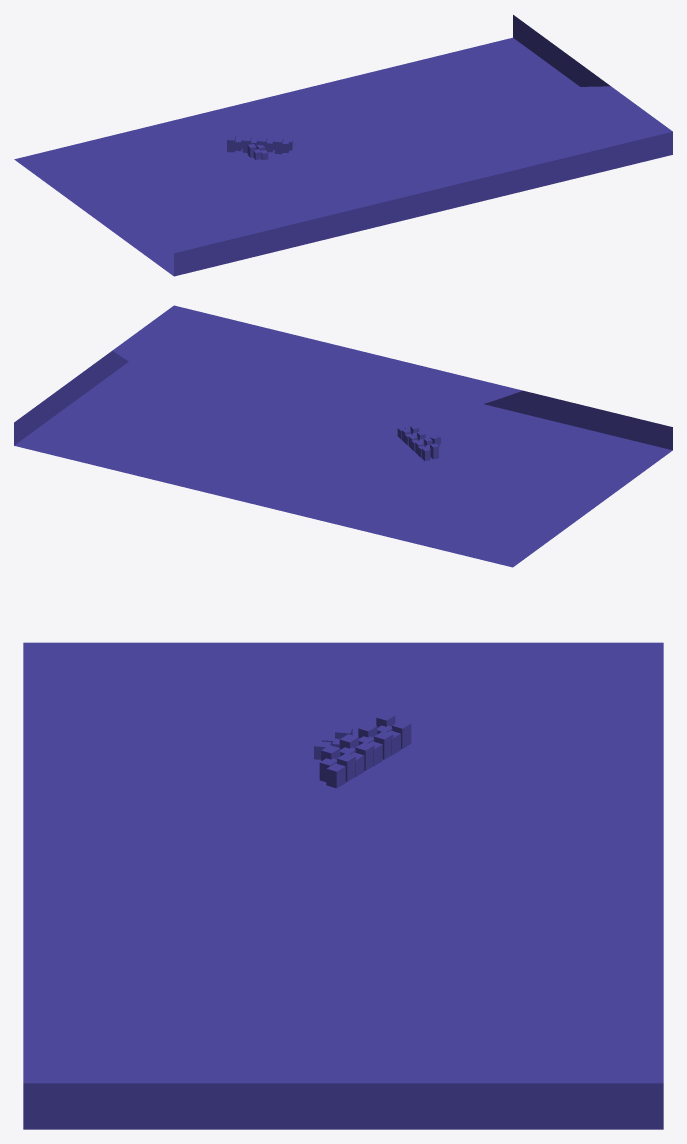
Rendered from purple.fbx.
The picture shows the model from 3 angles, top to bottom: view 1: azimuth 30°, elevation 25°; view 2: azimuth 150°, elevation 25°; view 3: azimuth 270°, elevation 25°; orthographic projection. The views are drawn at different scales.
Visible parts, largest first — view 1: pCube20; view 2: pCube20; view 3: pCube20.
Boxes of the visible parts, x1,y1,x2,y2 form: pCube20: [14, 15, 672, 276]; pCube20: [14, 305, 672, 567]; pCube20: [23, 642, 663, 1129].
Size of the model in its own units: 450 by 30.36 by 250.
